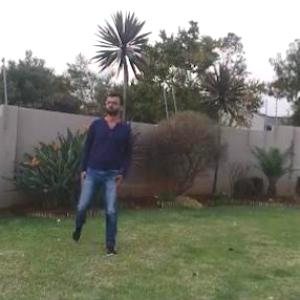follow: (75, 83, 133, 260)
